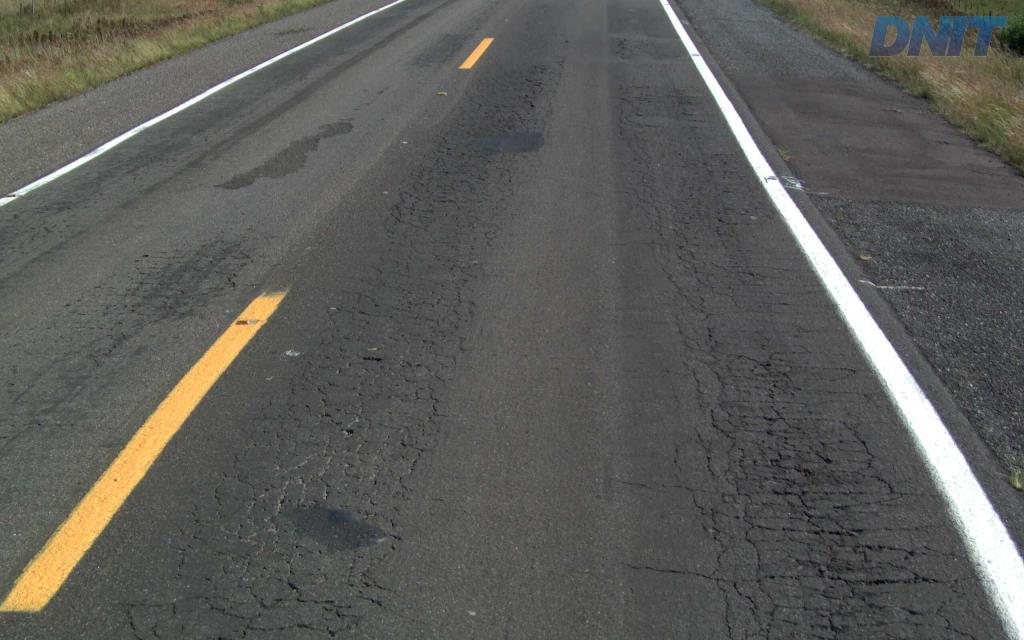crack: (724, 405, 950, 631), (463, 102, 541, 165), (286, 577, 363, 624), (681, 192, 740, 242), (185, 588, 265, 624), (736, 351, 796, 394), (710, 411, 741, 465), (513, 70, 544, 110)
